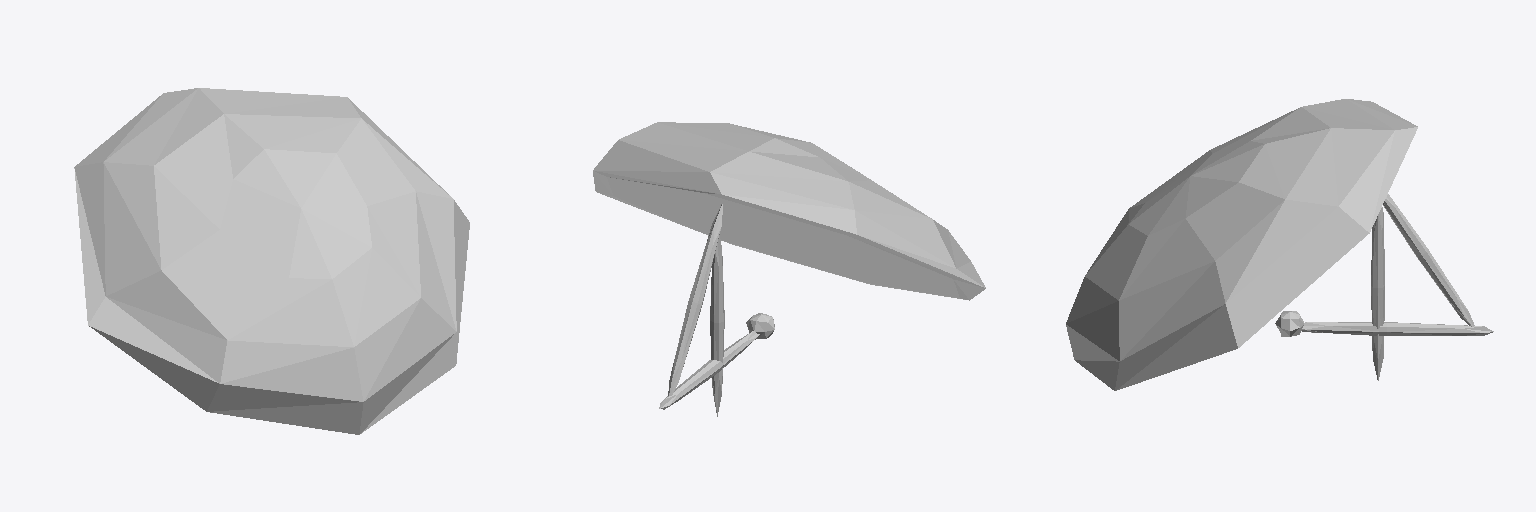
The model's file is deadfall_trap.obj.
The picture shows the model from 3 angles: view 1: azimuth 30°, elevation 25°; view 2: azimuth 150°, elevation 25°; view 3: azimuth 270°, elevation 25°; orthographic projection.
Parts seen in each view (by area): view 1: Plane; view 2: Plane, Cube.007, Cube.008, Cube.006, Cube.005; view 3: Plane, Cube.006, Cube.007, Cube.008, Cube.005.
Boxes of the visible parts, x1,y1,x2,y2 form: Plane: [74, 88, 469, 434]; Plane: [593, 122, 985, 300]; Cube.007: [668, 204, 722, 395]; Cube.008: [710, 235, 724, 416]; Cube.006: [659, 331, 759, 409]; Cube.005: [746, 313, 774, 338]; Plane: [1066, 99, 1417, 390]; Cube.006: [1302, 322, 1493, 335]; Cube.007: [1383, 194, 1474, 326]; Cube.008: [1371, 207, 1384, 380]; Cube.005: [1275, 311, 1303, 336].
Bounding box in the file's own units: 2.7 × 1.68 × 2.6.